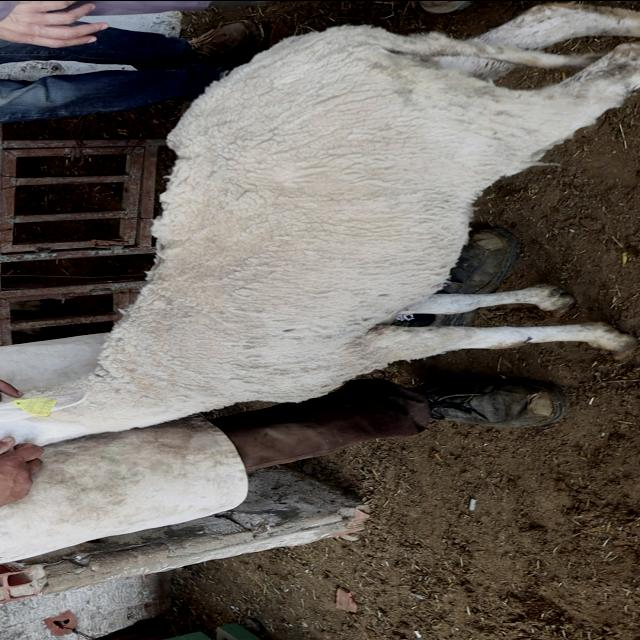Score_1: (0, 3, 639, 443)
